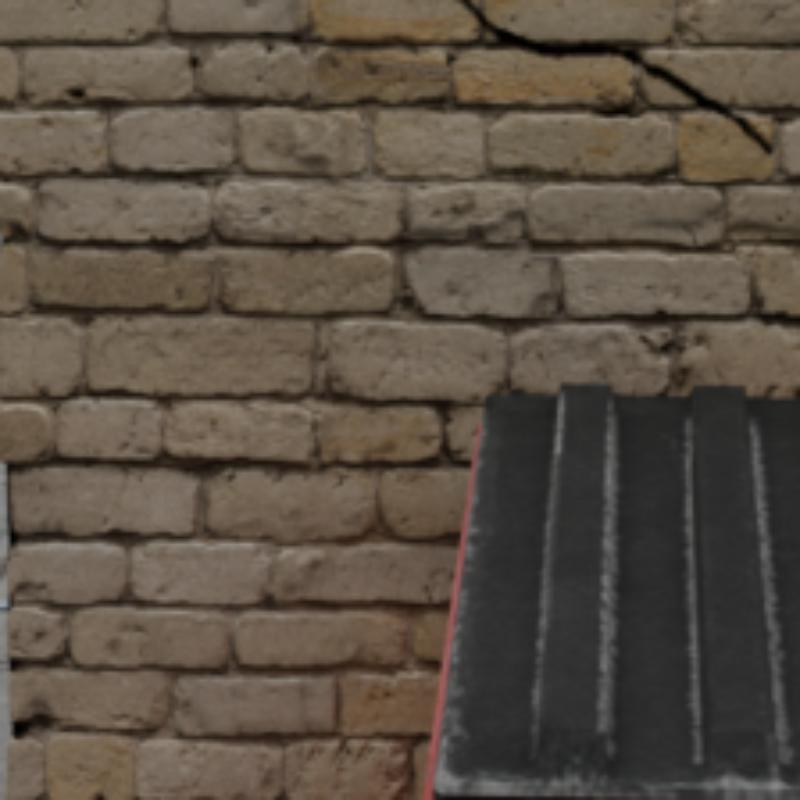pothole: (461, 0, 771, 154)
